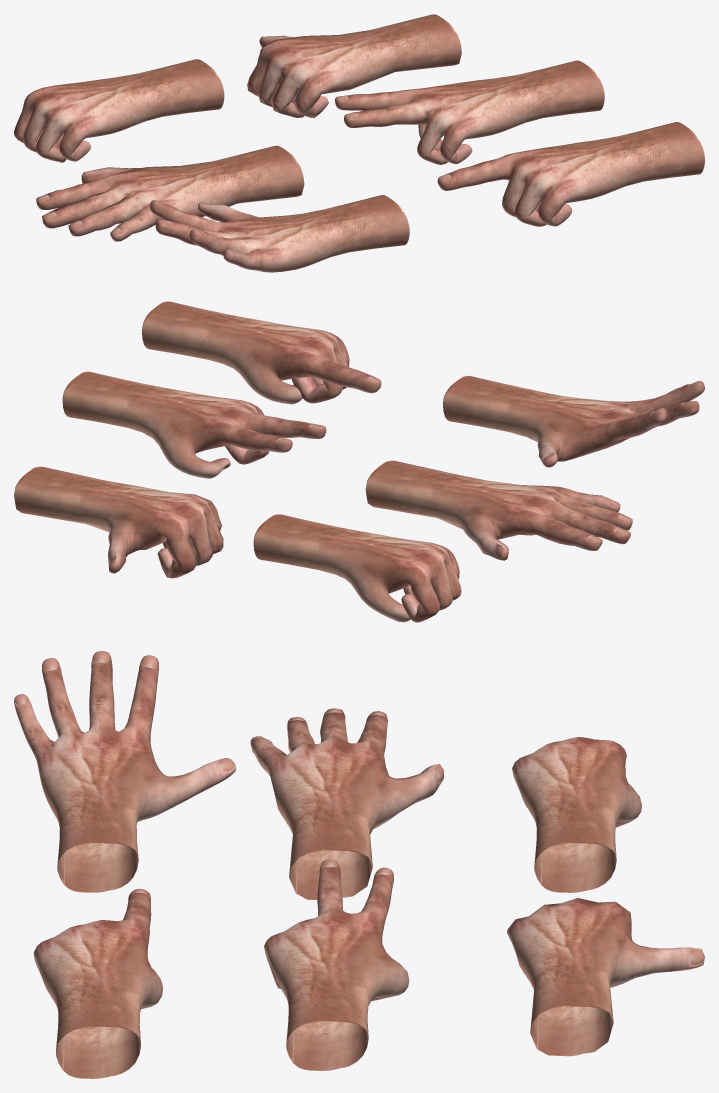
The model's file is hand.glb.
3 renders of one model, top to bottom at view 1: azimuth 30°, elevation 25°; view 2: azimuth 150°, elevation 25°; view 3: azimuth 270°, elevation 25°, orthographic. The views are drawn at different scales.
Visible parts, largest first — view 1: Cube.002; view 2: Cube.002; view 3: Cube.002.
Part boxes in pixels (x1,y1,x2,y2): Cube.002: (14,14,704,272); Cube.002: (14,301,704,622); Cube.002: (14,651,704,1078).
Bounding box in the file's own units: 0.5818 × 0.1064 × 0.489.
Materials: 1 (1 with a texture image).
